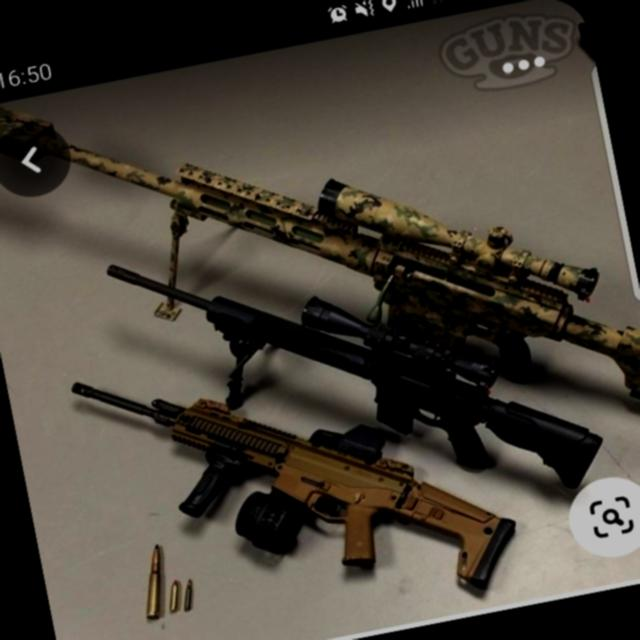m16: (118, 36, 620, 450)
